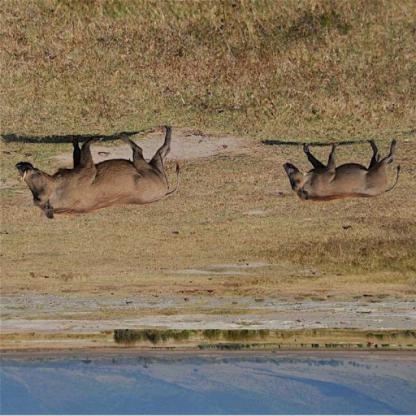boar: (4, 116, 187, 252), (261, 119, 401, 220)
